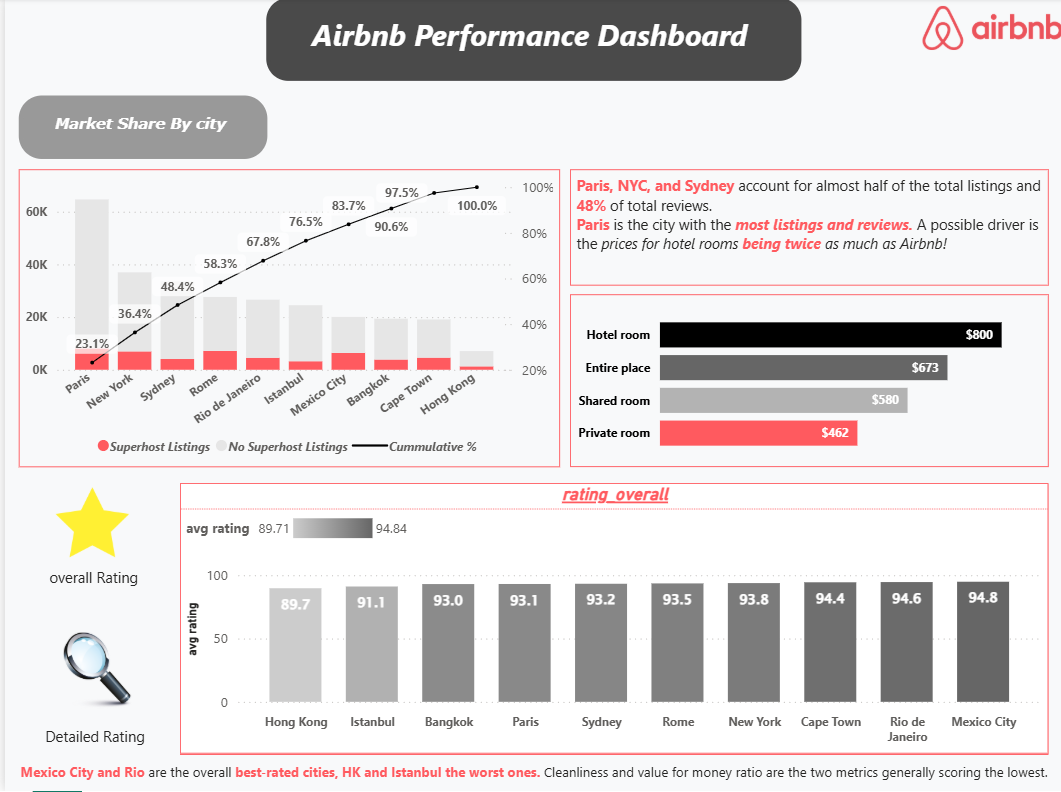

This screenshot's page, from the dashboard's own definition file:
{"tool":"powerbi","page":{"name":"ratings","canvas":[960,720],"ordinal":1},"visuals":[{"type":"textbox","box":[237.2,0,485.6,75.6],"z":0},{"type":"image","box":[39.4,440,78.8,71.2],"z":0,"group":"g1"},{"type":"image","box":[46.8,575.6,70,71.2],"z":0,"group":"g2"},{"type":"pivotTable","title":"rating_detailed ","fields":{"Rows":["Listings.city"],"Values":["Listings.accuracy","Listings.cleaniness","Listings.communication","Listings.location","Listings.value"]},"box":[158.9,441.1,787.8,245.6],"z":1000},{"type":"textbox","box":[24.4,511.2,111.2,32.5],"z":1000,"group":"g1"},{"type":"textbox","box":[25.6,655.6,111.2,30],"z":1000,"group":"g2"},{"type":"image","box":[832.5,0,127.5,54],"z":2000},{"type":"textbox","box":[12.2,88.9,225.6,57.8],"z":3000},{"type":"lineStackedColumnComboChart","fields":{"Category":["Listings.city"],"Y":["Listings.Superhost Listings","Listings.No Superhost Listings"],"Y2":["Listings.Cummulative %"]},"box":[12.2,155.6,491.1,270],"z":4000},{"type":"barChart","fields":{"Category":["Listings.room_type"],"Y":["Listings.Avg Price"]},"box":[512.2,268.9,434.4,156.7],"z":5000},{"type":"textbox","box":[512.2,155.6,434.4,105.6],"z":6000},{"type":"columnChart","title":"rating_overall","fields":{"Category":["Listings.city"],"Y":["Listings.avg rating"]},"box":[158.9,440,787.8,245.6],"z":7000},{"type":"group","id":"g1","title":"Group 1","box":[24.4,440,111.1,104.4],"z":8000},{"type":"group","id":"g2","title":"Group 2","box":[25.6,575.6,111.1,110],"z":9000},{"type":"textbox","box":[8.9,687.8,951.1,32.2],"z":10000}]}

Visuals, with their boxes in screenshot pixels (x1, y1, x2, y2), scaled from the page's 960x720 canvas onto the 1061x792 screenshot:
textbox: bbox=[262, 0, 799, 83]
image: bbox=[44, 484, 131, 562]
image: bbox=[52, 633, 129, 711]
"rating_detailed " pivotTable: bbox=[176, 485, 1046, 755]
textbox: bbox=[27, 562, 150, 598]
textbox: bbox=[28, 721, 151, 754]
image: bbox=[920, 0, 1060, 59]
textbox: bbox=[13, 98, 263, 161]
lineStackedColumnComboChart - Listings.city x Listings.Superhost Listings: bbox=[13, 171, 556, 468]
barChart - Listings.room_type x Listings.Avg Price: bbox=[566, 296, 1046, 468]
textbox: bbox=[566, 171, 1046, 287]
"rating_overall" columnChart: bbox=[176, 484, 1046, 754]
"Group 1" group: bbox=[27, 484, 150, 599]
"Group 2" group: bbox=[28, 633, 151, 754]
textbox: bbox=[10, 757, 1060, 791]
